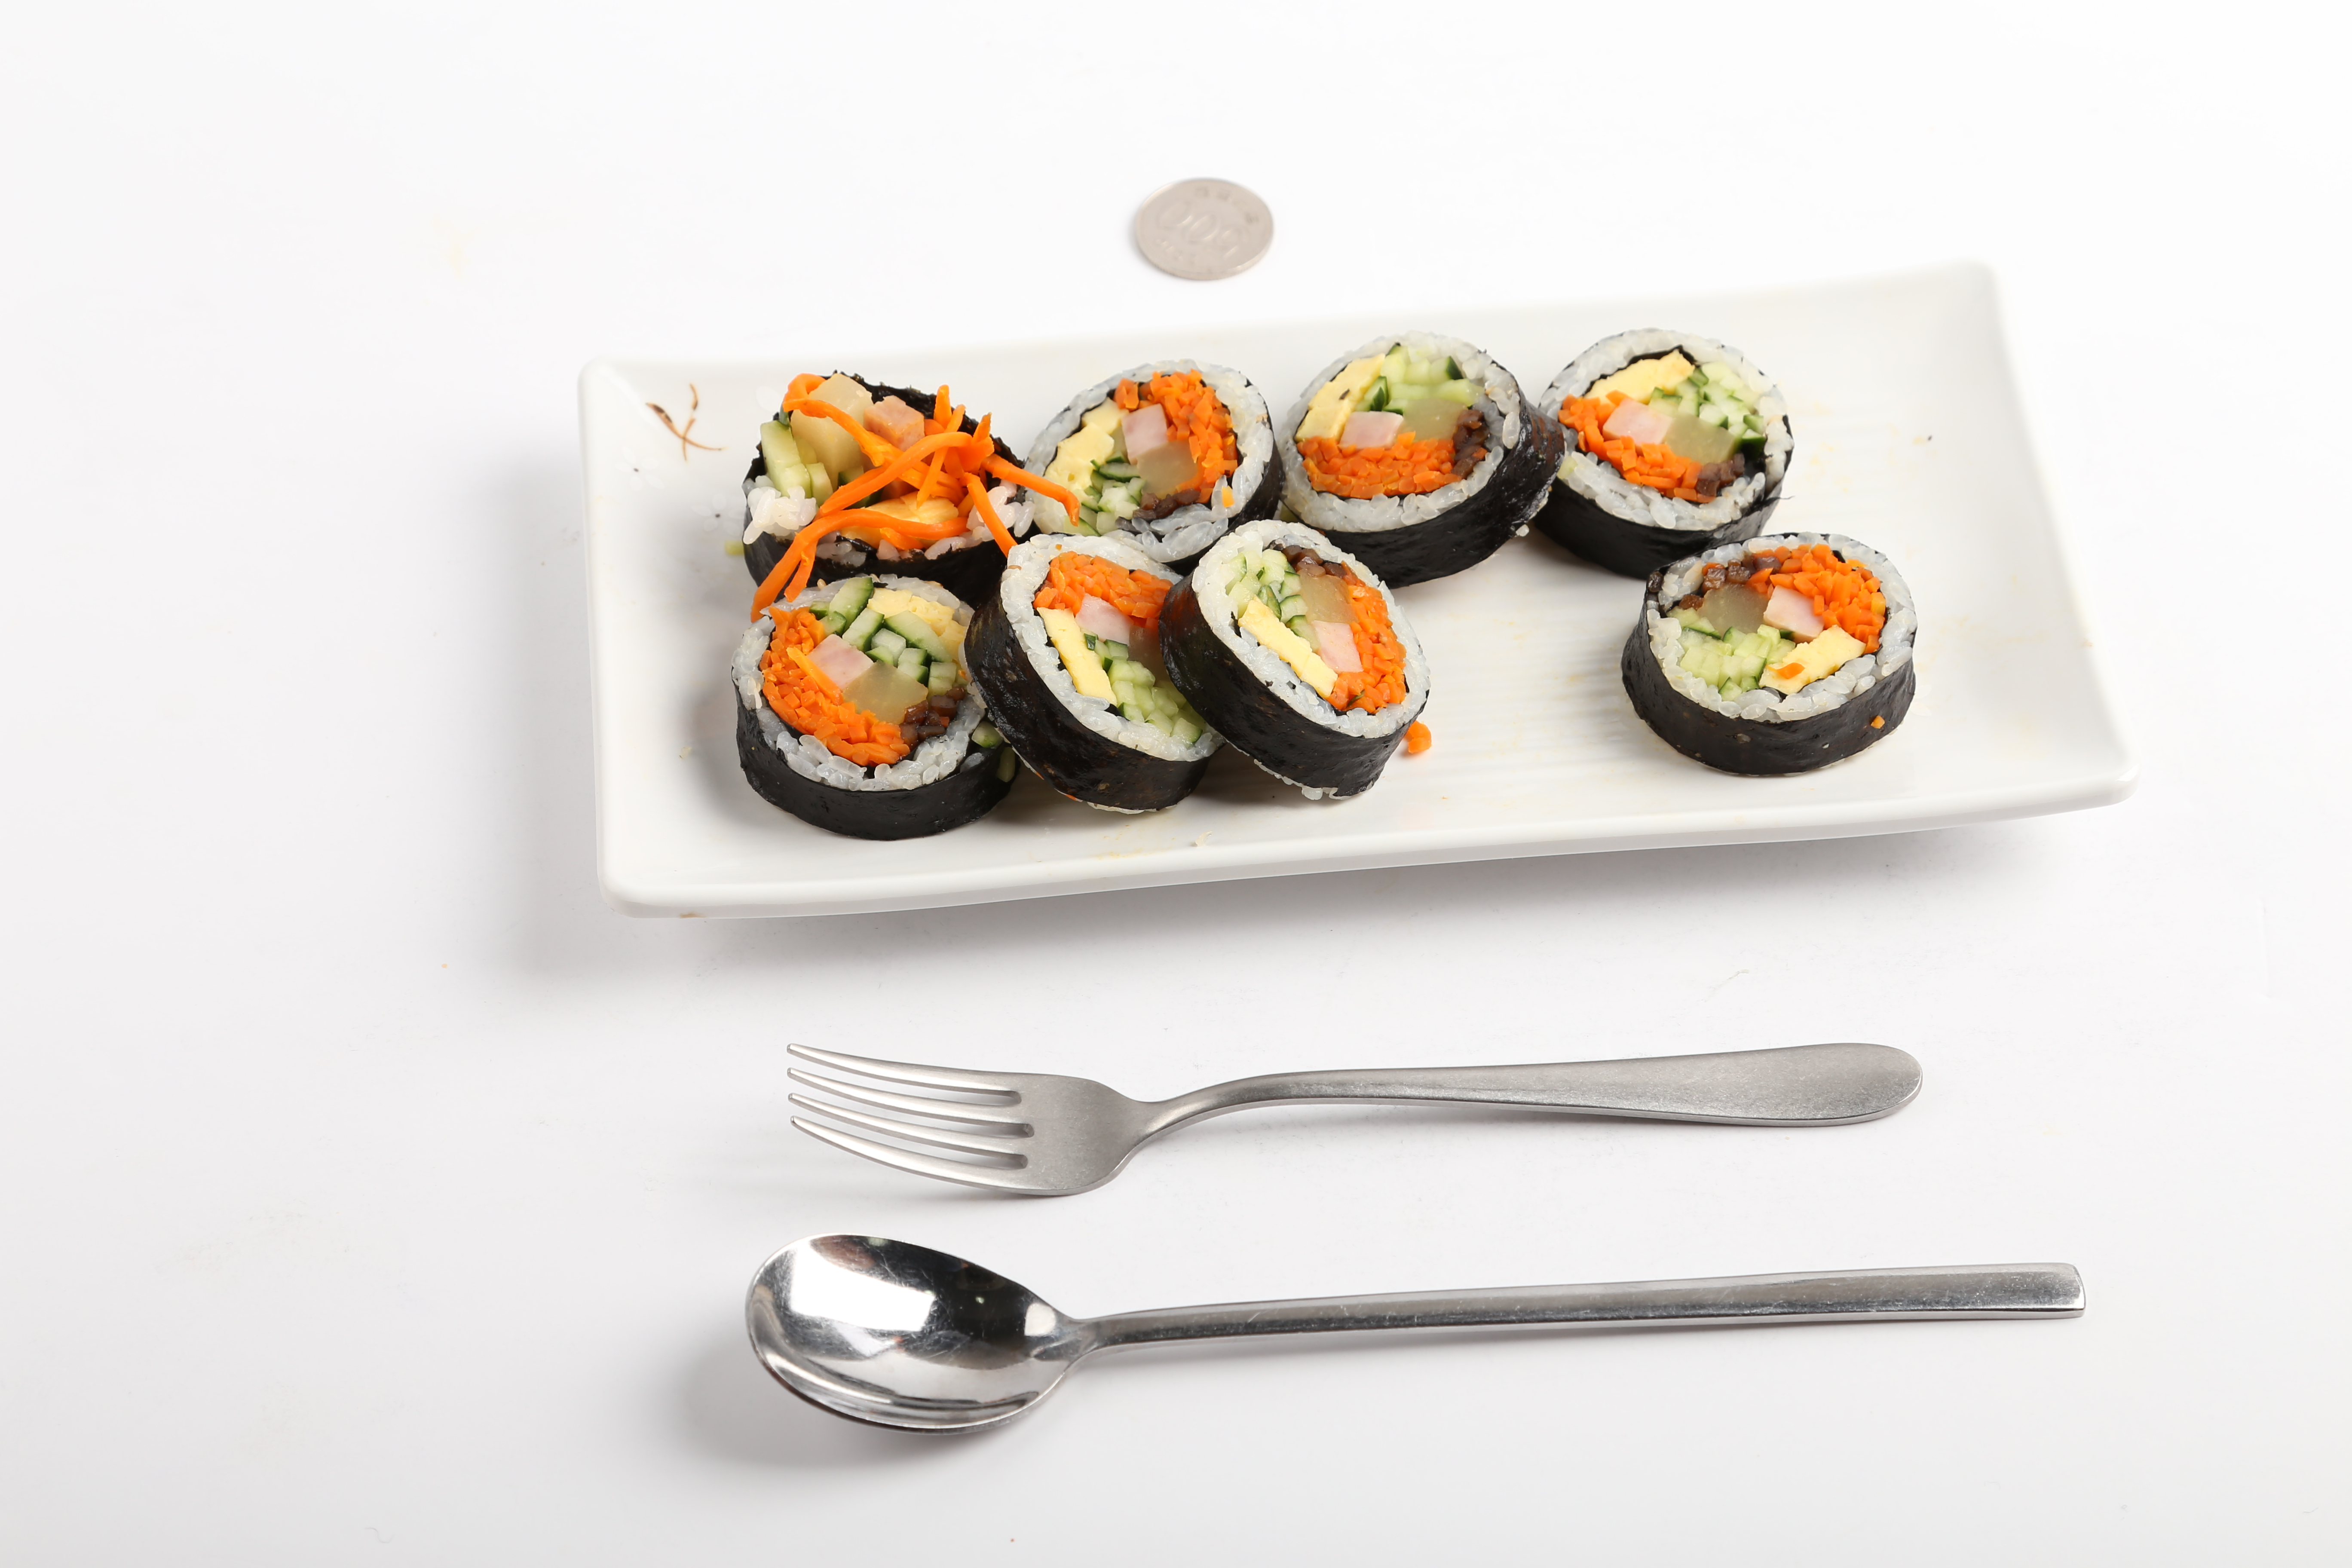dish: (574, 250, 2144, 927)
ref_coin: (1118, 164, 1281, 287)
ref_fork: (777, 1034, 1232, 1200)
ref_spoon: (737, 1227, 1157, 1440)
김밥: (726, 317, 1921, 843)
